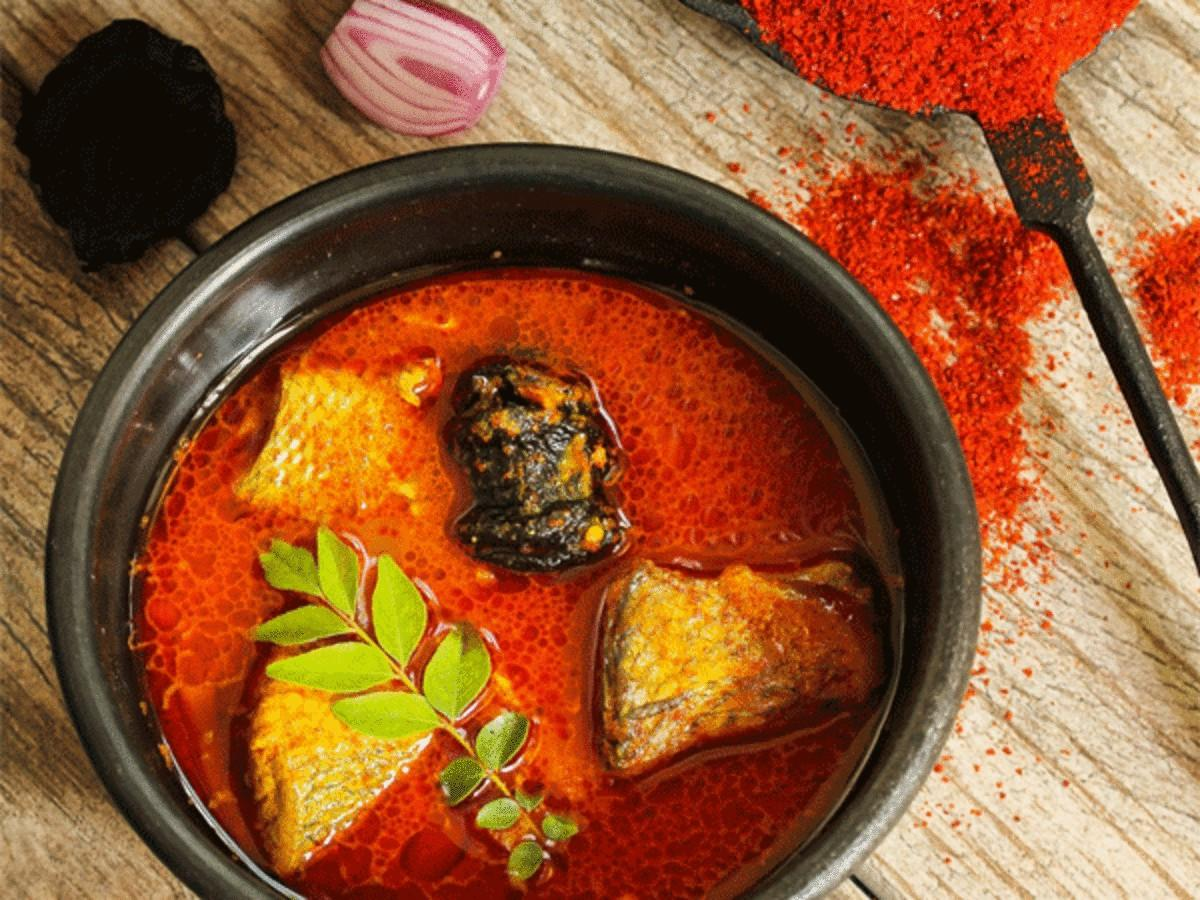FishCurry: (138, 265, 899, 900)
